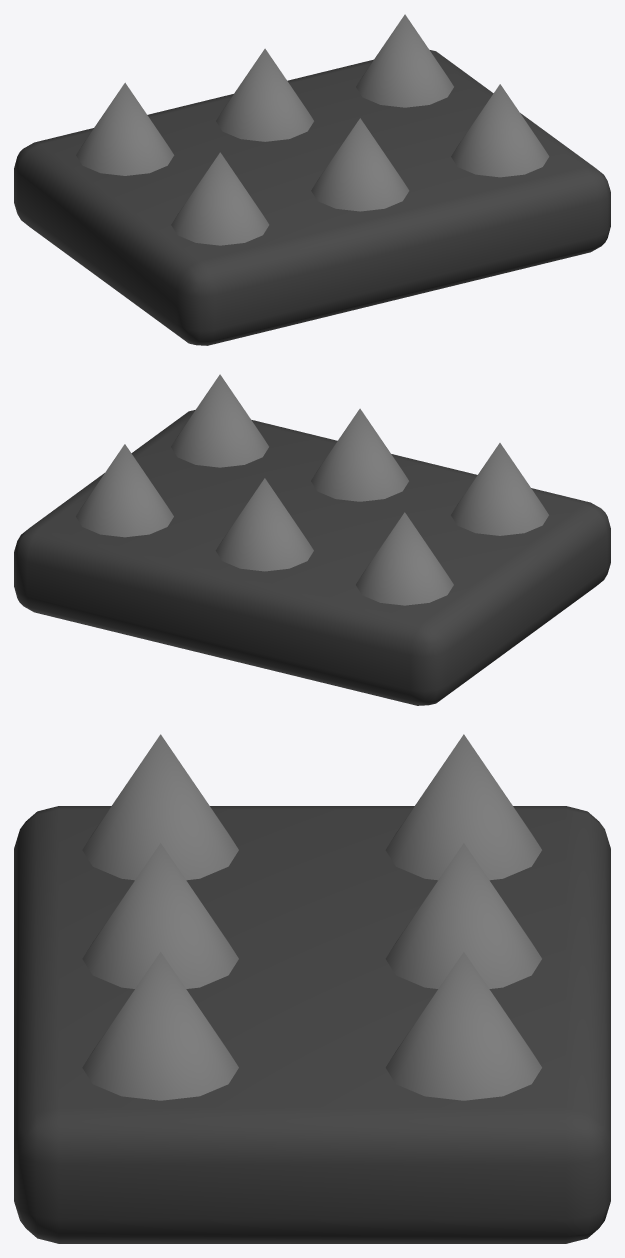
The model's file is Spike Trap_1.fbx.
3 views of the same model, one above another, from view 1: azimuth 30°, elevation 25°; view 2: azimuth 150°, elevation 25°; view 3: azimuth 270°, elevation 25° (orthographic). The views are drawn at different scales.
Visible parts, largest first — view 1: Spike Trap_1; view 2: Spike Trap_1; view 3: Spike Trap_1.
Part boxes in pixels (x1,y1,x2,y2): Spike Trap_1: (14,14,610,345); Spike Trap_1: (14,374,610,705); Spike Trap_1: (14,734,610,1243).
Bounding box in the file's own units: 0.4793 × 0.166 × 0.3618.
